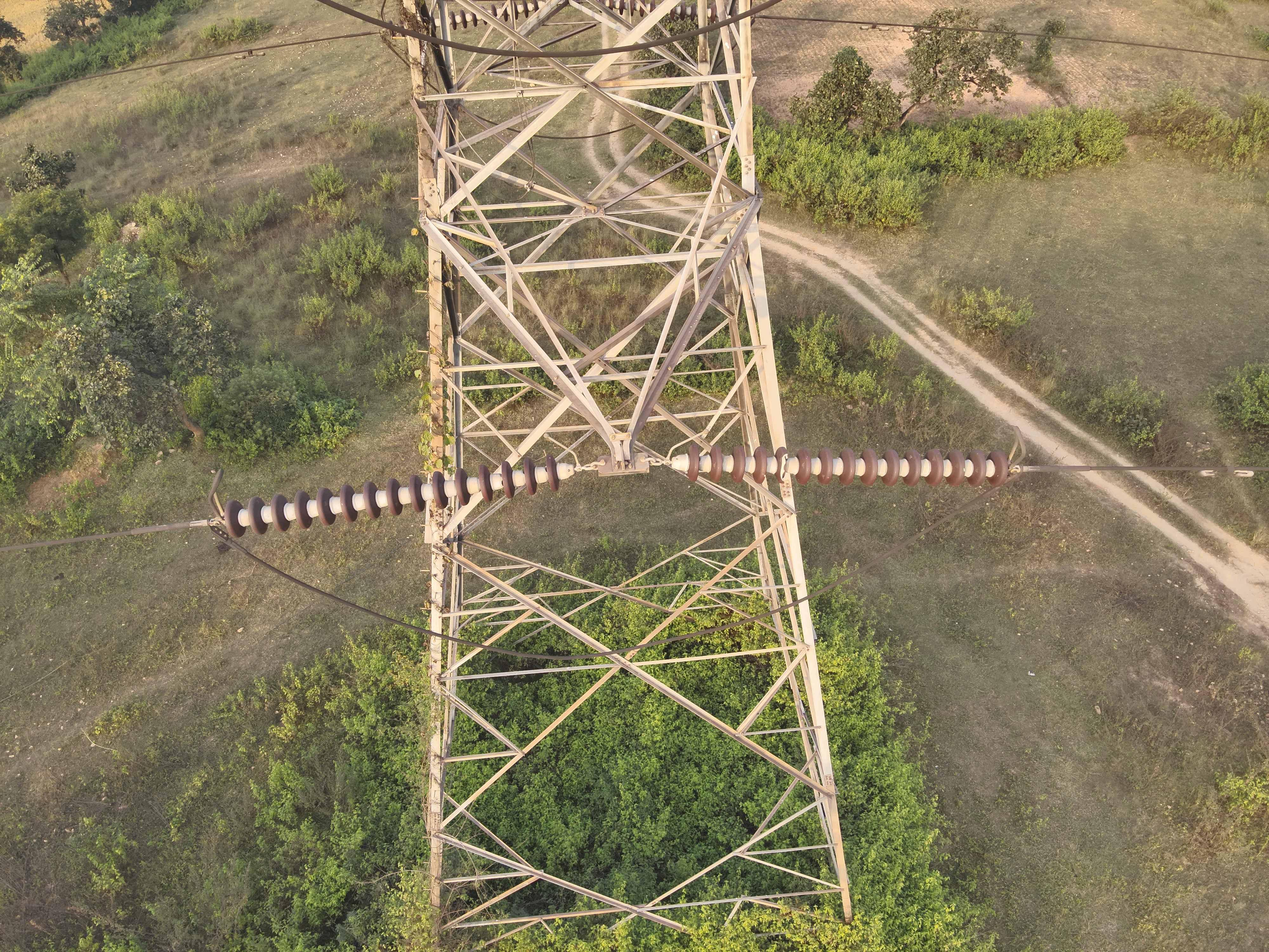broken_insulator: (775, 446, 789, 483), (449, 10, 457, 30)
